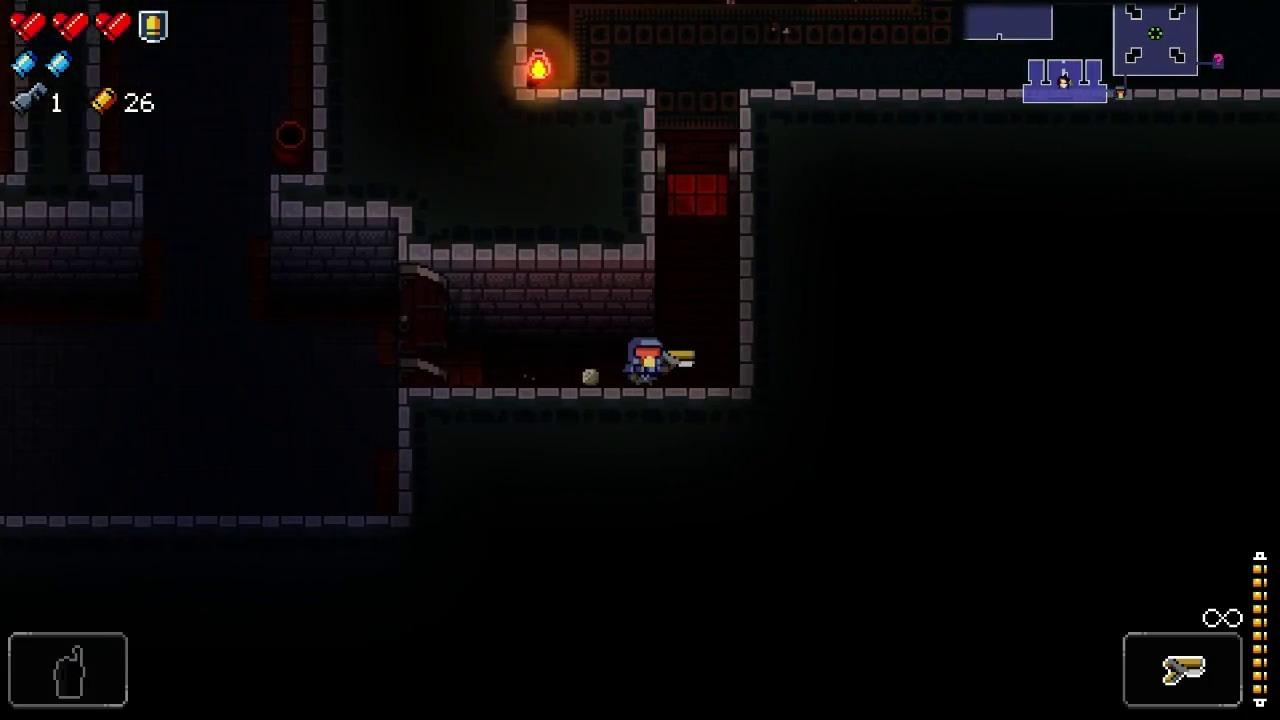player: (625, 335, 664, 389)
unlocked_door: (395, 262, 447, 388), (727, 141, 740, 236), (655, 143, 666, 238)
